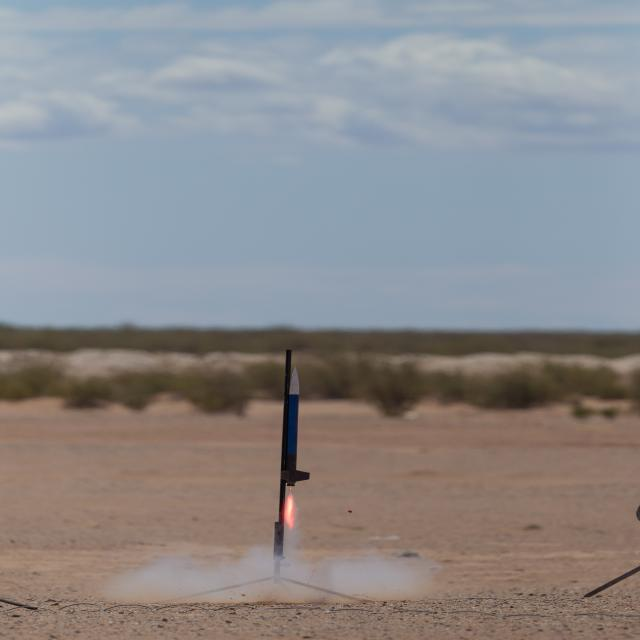Rocket: (281, 364, 311, 486)
